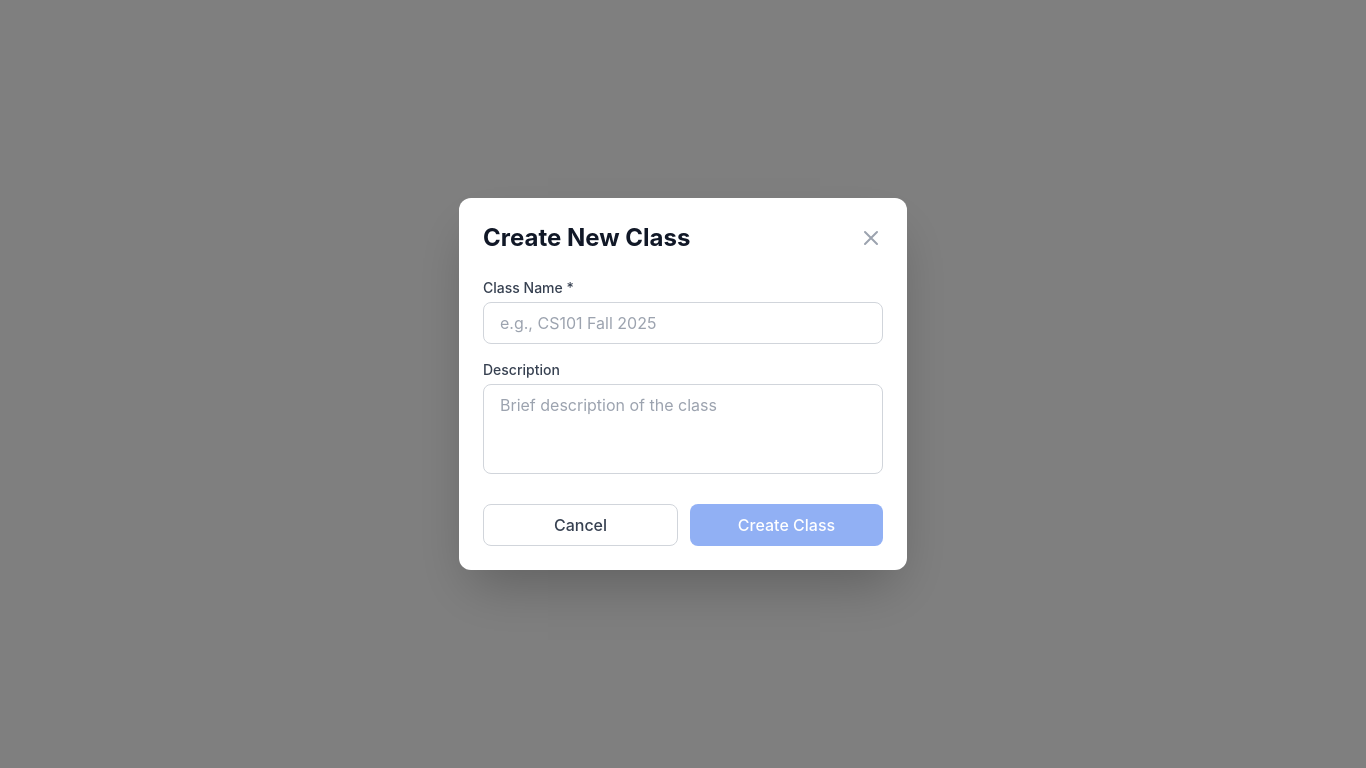
Test: CreateClassModal › shows error when network request fails
Type "CS101" into the field labelled "Class Name *". click: point(683, 323)
box: [483,302,883,344]
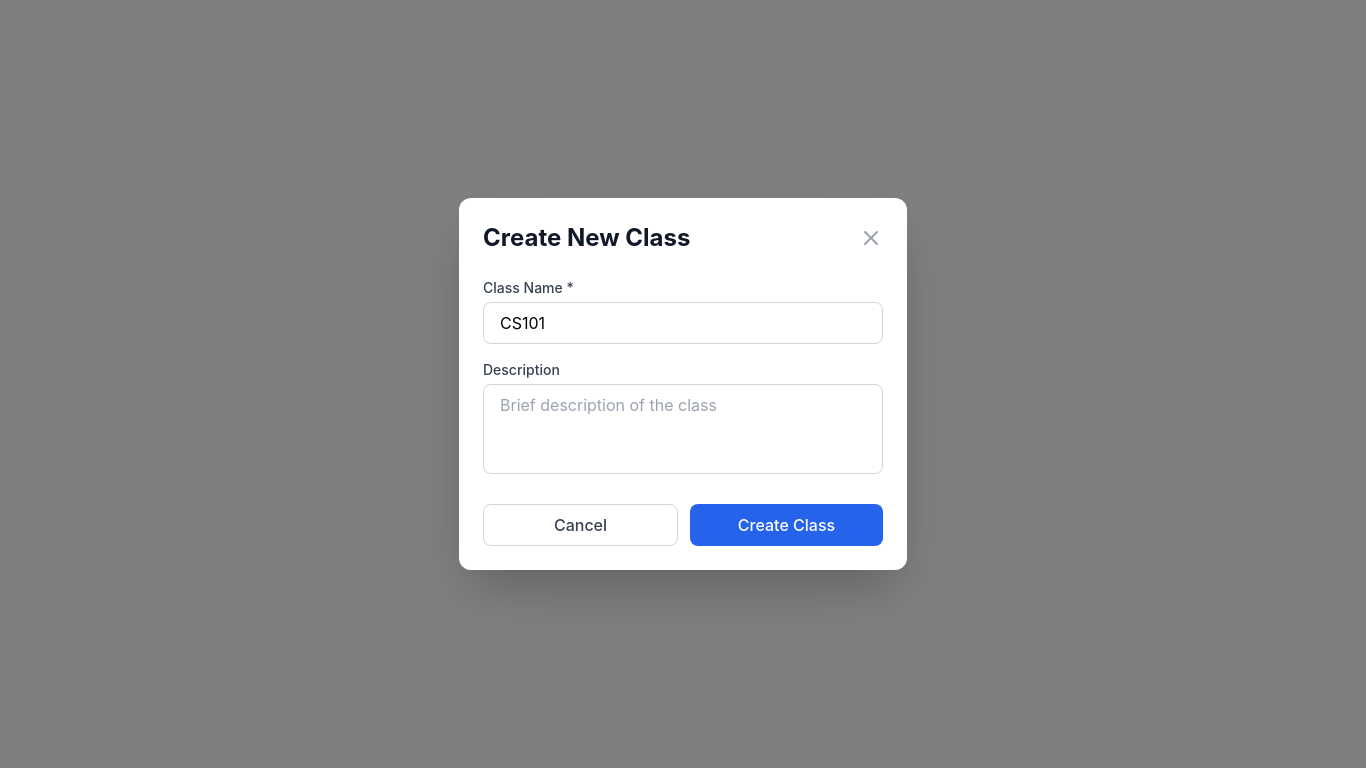
Submit the form "Class Name * Description Cancel Create Class", box [483,278,883,546]
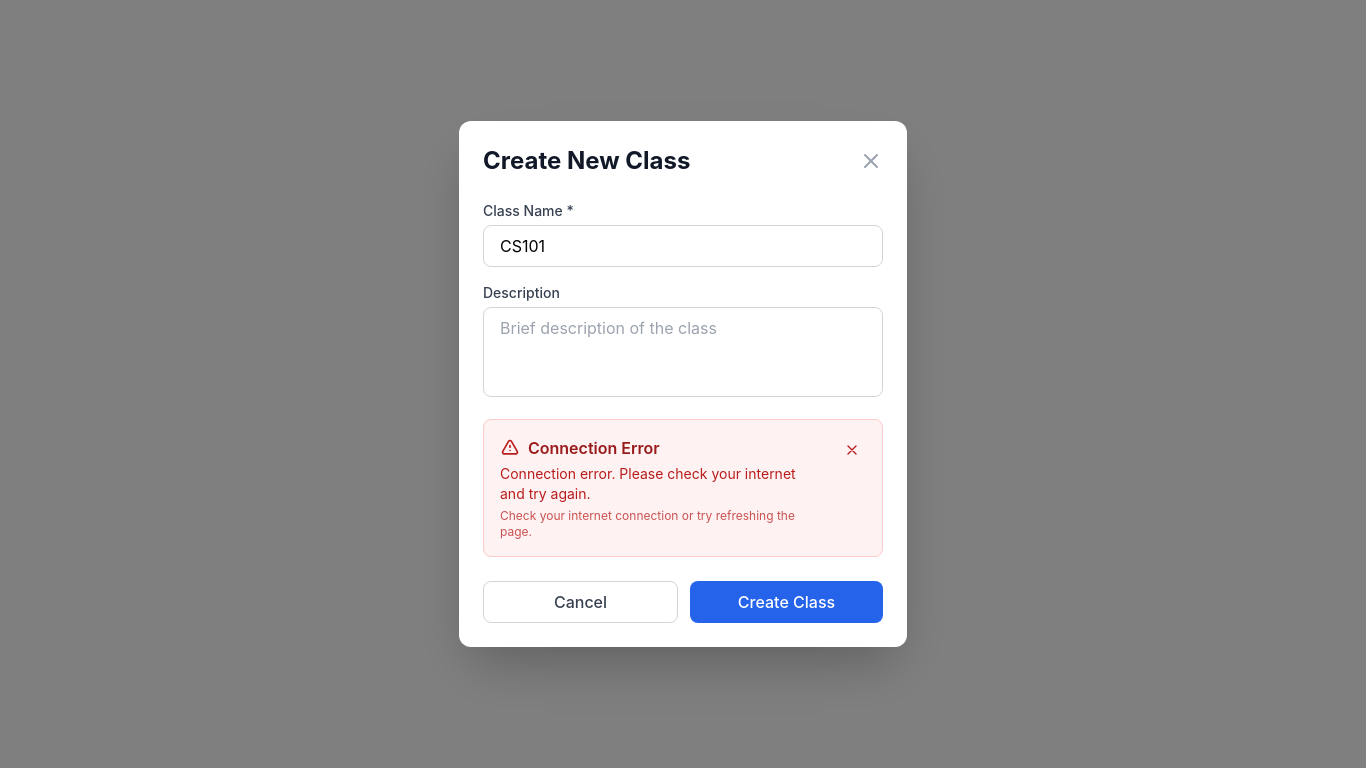
Result: the text "Connection Error" is shown at [528,436,660,460]
